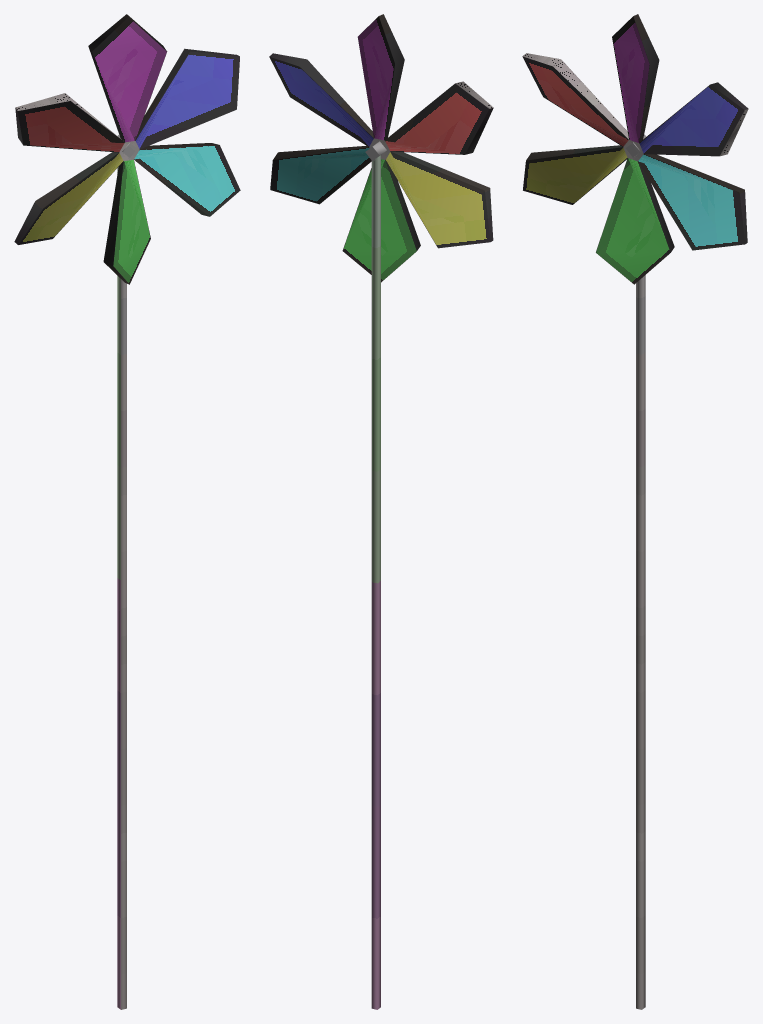
Rendered from prop_windmill2.obj.
The picture shows the model from 3 angles, left to right: view 1: azimuth 30°, elevation 25°; view 2: azimuth 150°, elevation 25°; view 3: azimuth 330°, elevation 25°; orthographic projection.
Bounding box in the file's own units: 0.2217 × 0.9468 × 0.0439.
Materials: 1 (1 with a texture image).
